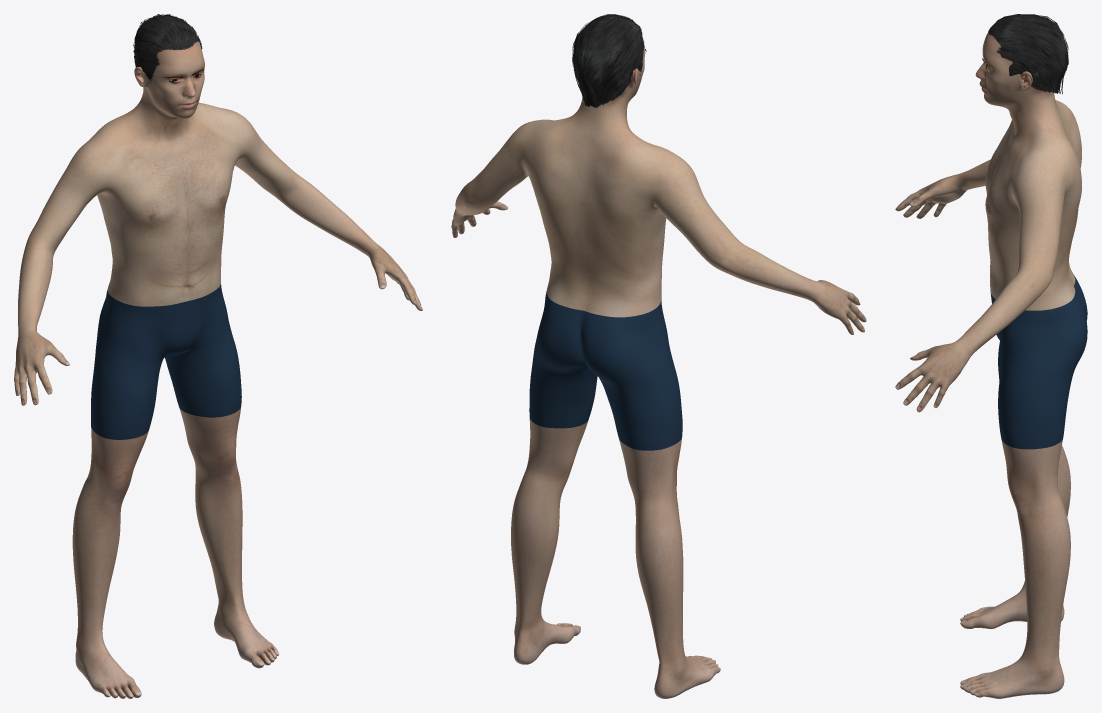
Rendered from body-editorial.glb.
3 views of the same model, side by side, from view 1: azimuth 30°, elevation 25°; view 2: azimuth 150°, elevation 25°; view 3: azimuth 270°, elevation 25° (orthographic).
Parts seen in each view (by area): view 1: ABCuerpo anatomical candidate; view 2: ABCuerpo anatomical candidate; view 3: ABCuerpo anatomical candidate.
Boxes of the visible parts, bbox=[...] form: ABCuerpo anatomical candidate: bbox=[14, 14, 422, 698]; ABCuerpo anatomical candidate: bbox=[451, 14, 866, 698]; ABCuerpo anatomical candidate: bbox=[895, 14, 1087, 698].
Size of the model in its own units: 1.1 by 1.69 by 0.458.
10 materials, 9 textured.
